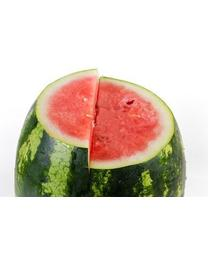watermelon: (12, 68, 188, 199)
